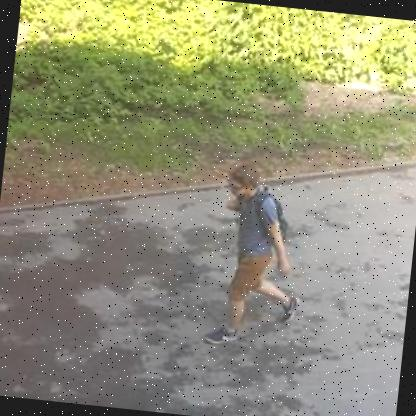person: (204, 154, 320, 361)
